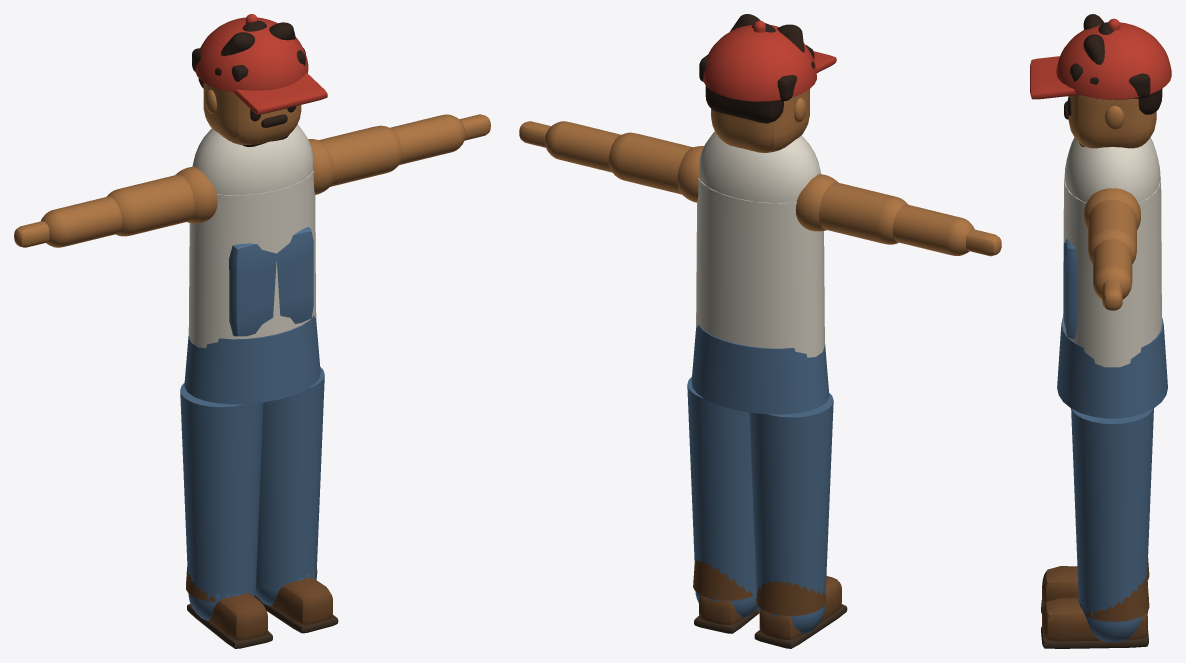
File: javier.glb
3 views of the same model, side by side, from view 1: azimuth 30°, elevation 25°; view 2: azimuth 150°, elevation 25°; view 3: azimuth 270°, elevation 25° (orthographic).
Visible parts, largest first — view 1: javier_pant_leg_l, javier_pant_leg_r, javier_shirt_body, javier_bottom_waist, javier_bib, javier_top_shoulders, javier_cap_crown, javier_upperarm_l, javier_upperarm_r, javier_head, javier_forearm_l, javier_forearm_r (+7 smaller); view 2: javier_shirt_body, javier_pant_leg_l, javier_pant_leg_r, javier_bottom_waist, javier_cap_crown, javier_top_shoulders, javier_upperarm_l, javier_upperarm_r, javier_head, javier_forearm_l, javier_forearm_r, javier_boot_shaft_l (+8 smaller); view 3: javier_pant_leg_r, javier_shirt_body, javier_bottom_waist, javier_cap_crown, javier_top_shoulders, javier_head, javier_boot_r, javier_upperarm_r, javier_forearm_r, javier_cap_visor, javier_bib, javier_boot_shaft_r (+10 smaller).
Boxes of the visible parts, bbox=[...] form: javier_pant_leg_l: bbox=[180, 383, 263, 597]; javier_pant_leg_r: bbox=[256, 367, 324, 589]; javier_shirt_body: bbox=[188, 170, 316, 347]; javier_bottom_waist: bbox=[184, 315, 320, 404]; javier_bib: bbox=[229, 227, 313, 336]; javier_top_shoulders: bbox=[192, 124, 312, 195]; javier_cap_crown: bbox=[195, 17, 308, 92]; javier_upperarm_l: bbox=[106, 174, 194, 236]; javier_upperarm_r: bbox=[319, 125, 402, 186]; javier_head: bbox=[203, 83, 301, 144]; javier_forearm_l: bbox=[41, 196, 121, 247]; javier_forearm_r: bbox=[390, 114, 465, 164]; javier_shirt_body: bbox=[696, 178, 824, 357]; javier_pant_leg_l: bbox=[749, 393, 833, 608]; javier_pant_leg_r: bbox=[687, 377, 756, 602]; javier_bottom_waist: bbox=[691, 325, 829, 414]; javier_cap_crown: bbox=[703, 25, 816, 101]; javier_top_shoulders: bbox=[699, 131, 821, 203]; javier_upperarm_l: bbox=[818, 182, 907, 244]; javier_upperarm_r: bbox=[608, 132, 692, 194]; javier_head: bbox=[711, 89, 809, 152]; javier_forearm_l: bbox=[892, 204, 974, 255]; javier_forearm_r: bbox=[545, 121, 621, 172]; javier_boot_shaft_l: bbox=[756, 581, 825, 615]; javier_pant_leg_r: bbox=[1071, 408, 1153, 612]; javier_shirt_body: bbox=[1063, 177, 1161, 367]; javier_bottom_waist: bbox=[1057, 317, 1167, 418]; javier_cap_crown: bbox=[1056, 22, 1171, 99]; javier_top_shoulders: bbox=[1064, 137, 1160, 202]; javier_head: bbox=[1068, 95, 1156, 148]; javier_boot_r: bbox=[1042, 597, 1147, 641]; javier_upperarm_r: bbox=[1088, 199, 1136, 264]; javier_forearm_r: bbox=[1093, 239, 1132, 299]; javier_cap_visor: bbox=[1030, 56, 1079, 99]; javier_bib: bbox=[1063, 239, 1077, 338]; javier_boot_shaft_r: bbox=[1087, 575, 1149, 621].
Size of the model in its own units: 1.58 by 1.91 by 0.4036.
